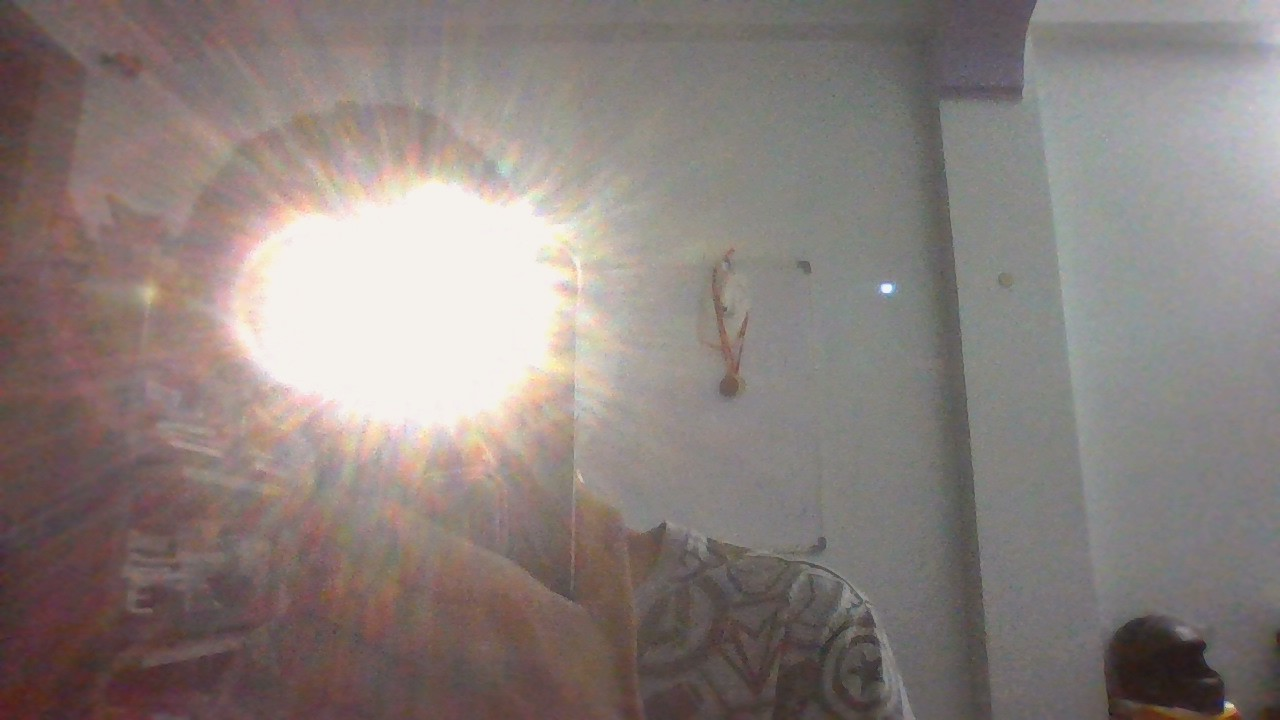Glare: (239, 182, 569, 434)
